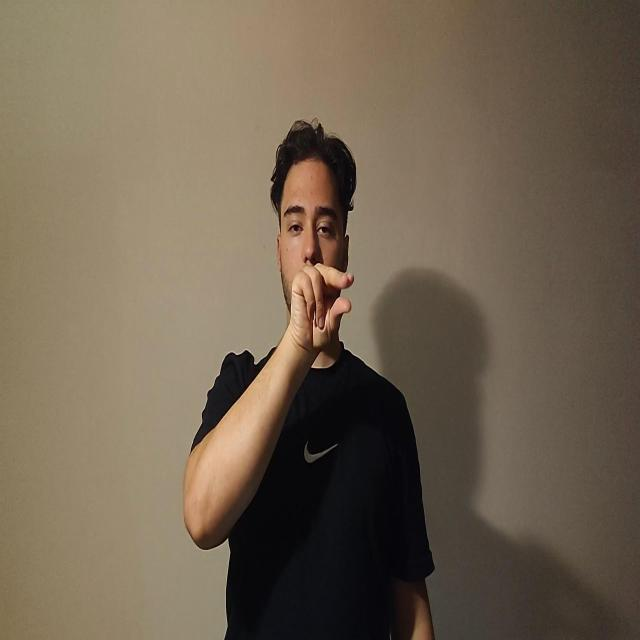no: (289, 260, 354, 355)
